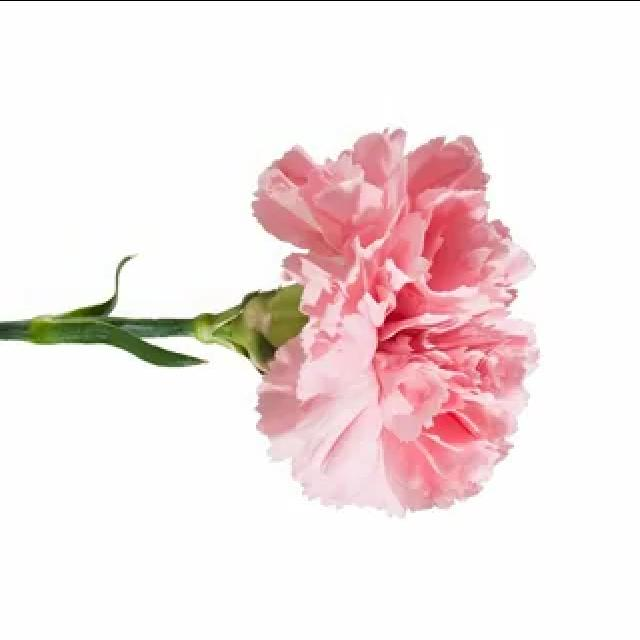carnation: (189, 118, 562, 528)
